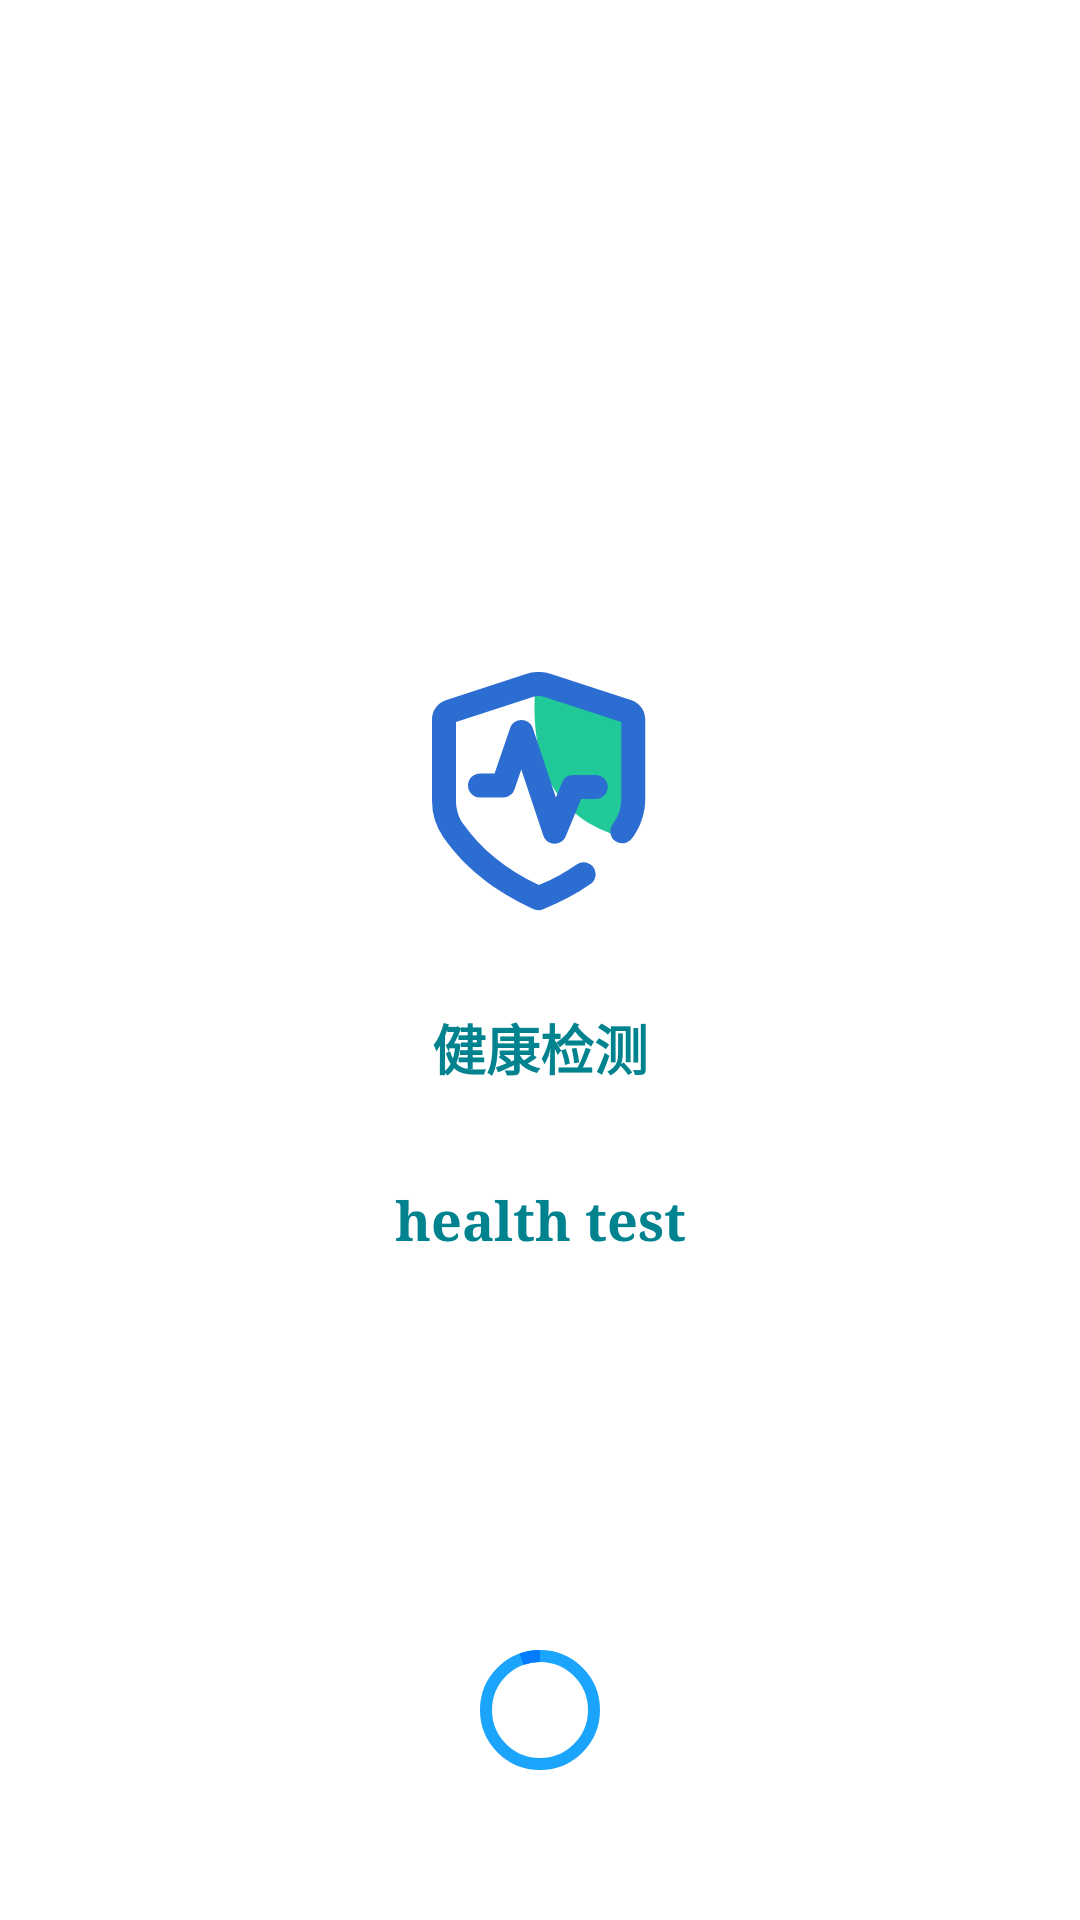

Point at icon controls on the screen. Image size 1080 x 1920, points as [x,y].
health: [539,791]
